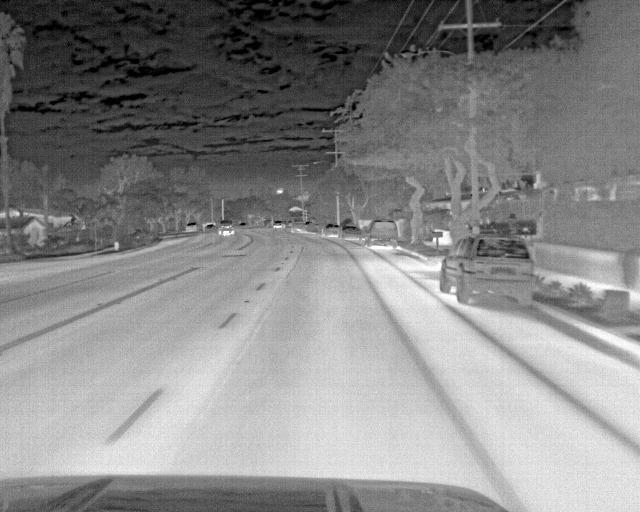car: (437, 234, 533, 309), (364, 218, 400, 251), (338, 222, 361, 241), (319, 221, 341, 239), (214, 218, 234, 237), (184, 220, 199, 234), (272, 217, 286, 231), (202, 222, 216, 234)
